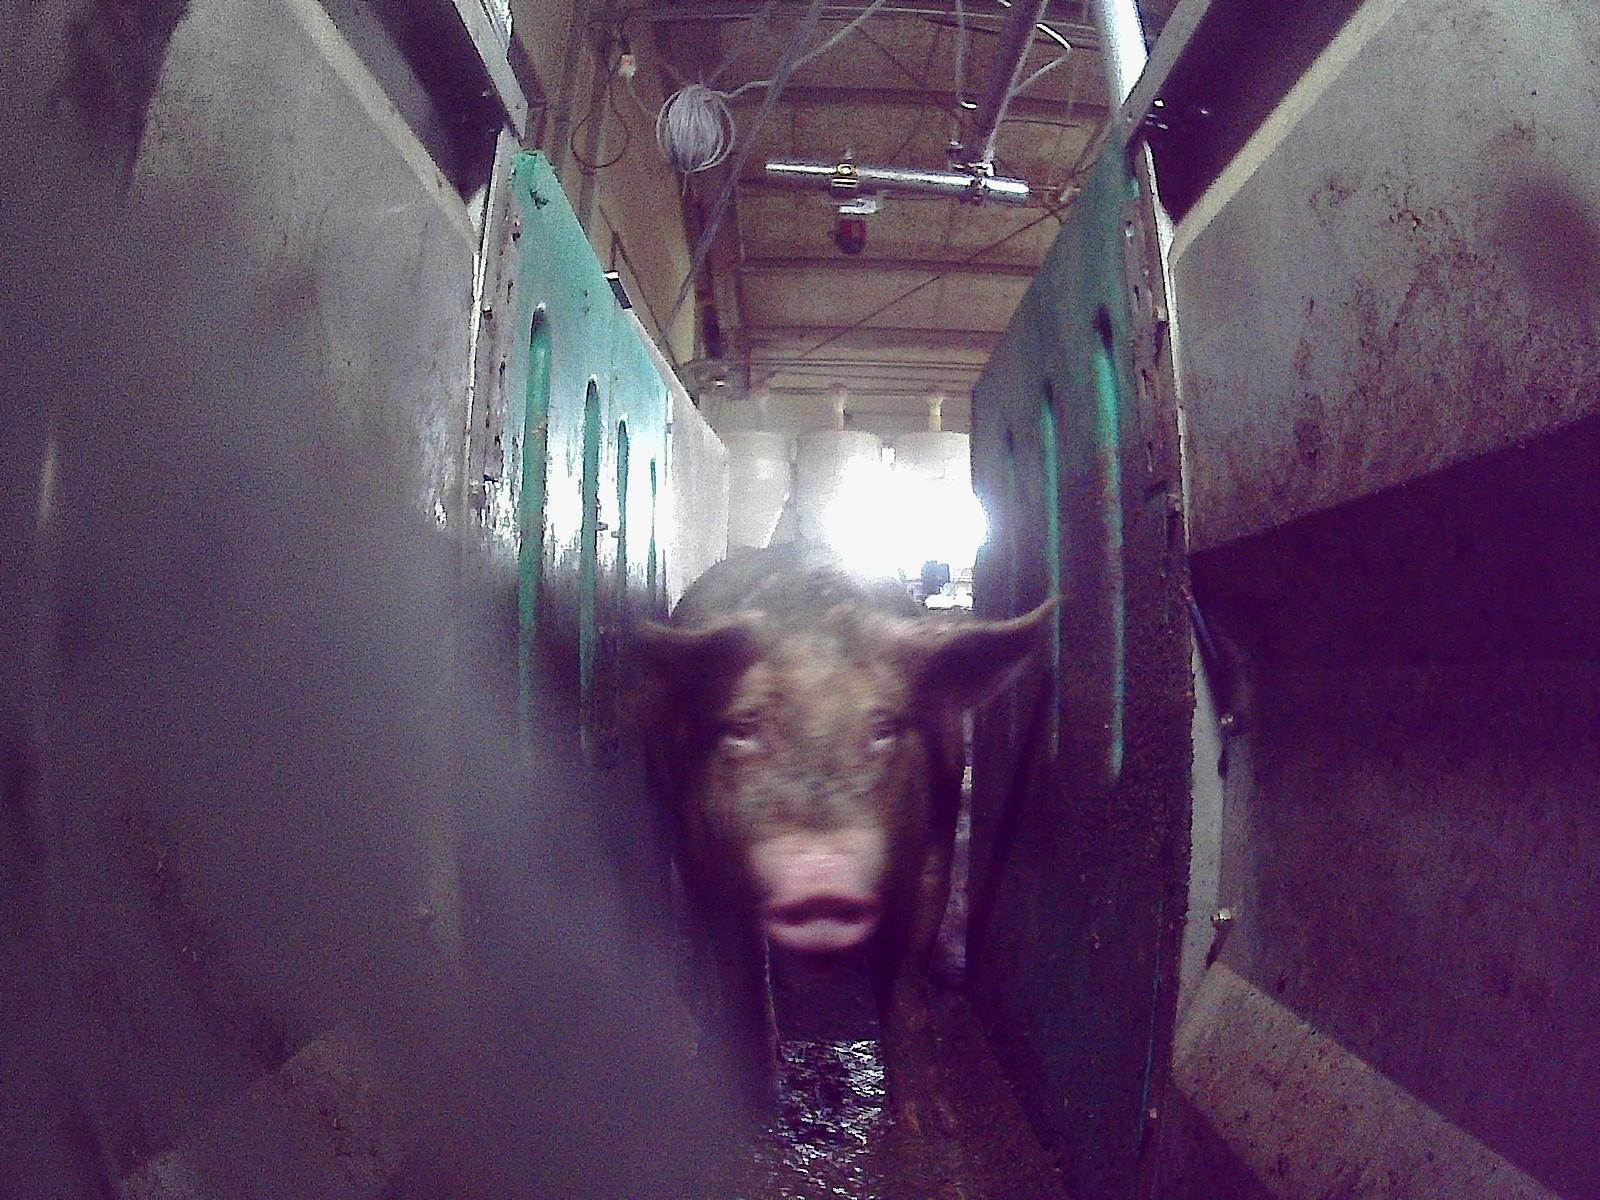Face: (695, 623, 921, 951)
